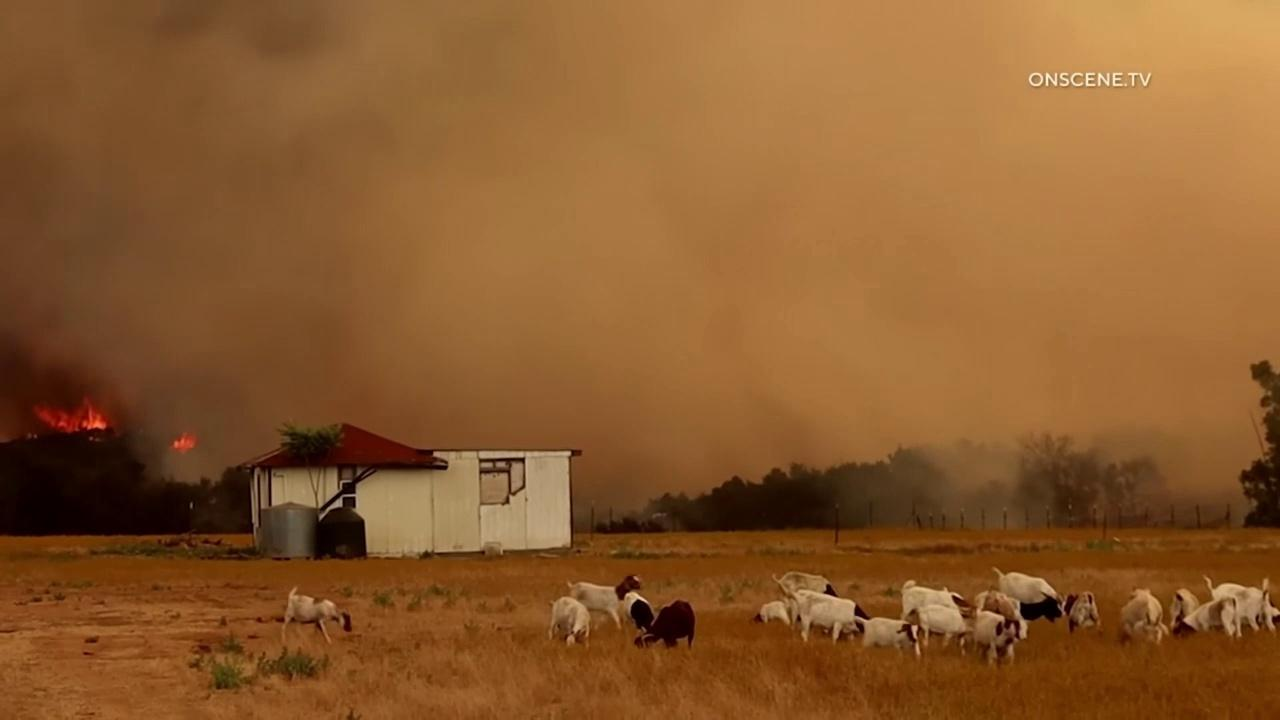fire: (32, 396, 107, 434), (173, 430, 197, 456), (88, 437, 103, 442)
smoke: (0, 0, 1280, 532)
